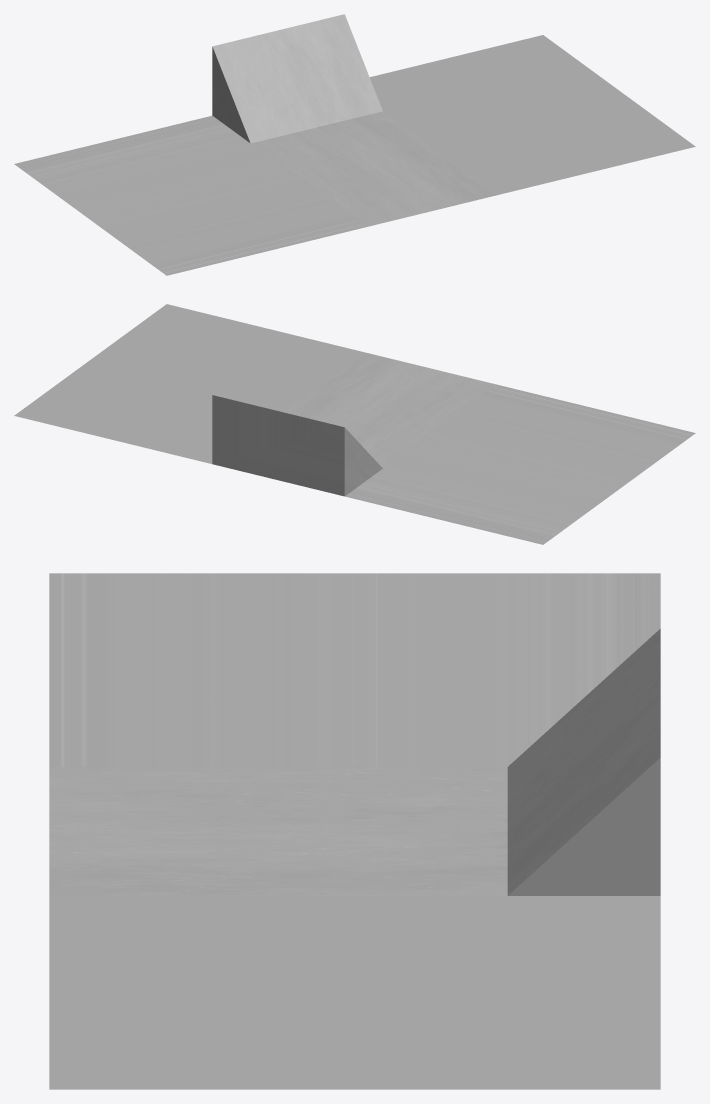
The model's file is beveled_floor_endCap.glb.
3 renders of one model, top to bottom at view 1: azimuth 30°, elevation 25°; view 2: azimuth 150°, elevation 25°; view 3: azimuth 270°, elevation 25°, orthographic. The views are drawn at different scales.
Parts seen in each view (by area): view 1: beveled.floor.endCap; view 2: beveled.floor.endCap; view 3: beveled.floor.endCap.
Part boxes in pixels (left/top/right/bottom): beveled.floor.endCap: left=14, top=14, right=695, bottom=275; beveled.floor.endCap: left=14, top=304, right=695, bottom=544; beveled.floor.endCap: left=49, top=573, right=660, bottom=1089.
Size of the model in its own units: 1 by 0.125 by 0.5.
1 material, 1 textured.
